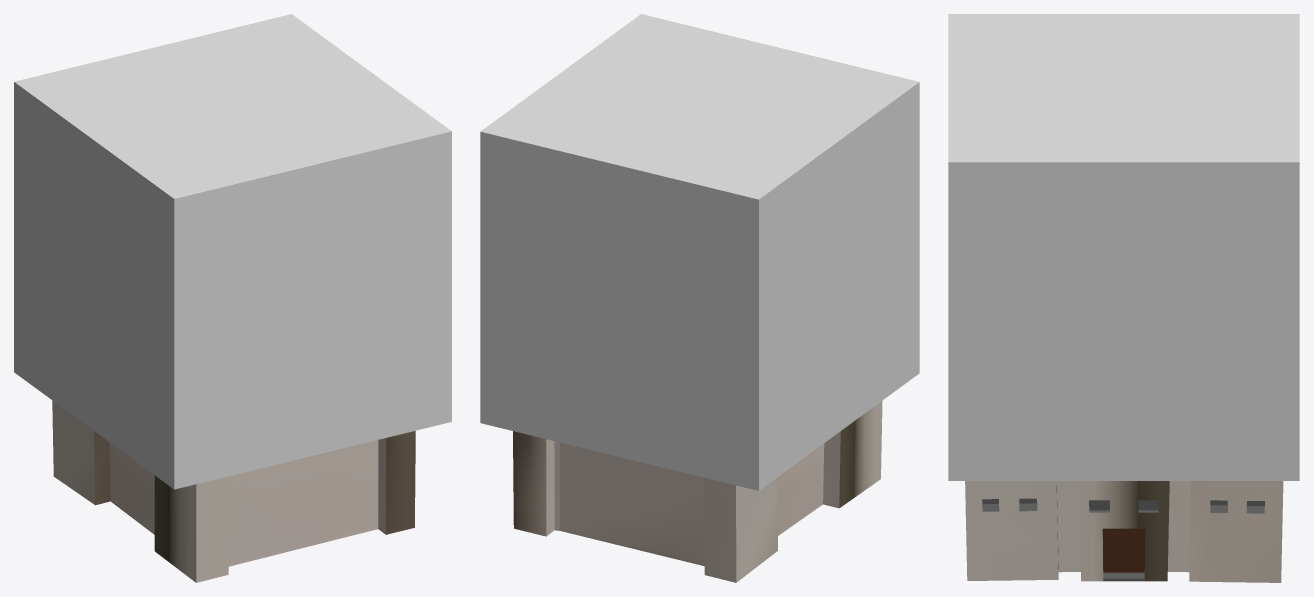
The model's file is 6castle.fbx.
The picture shows the model from 3 angles, left to right: view 1: azimuth 30°, elevation 25°; view 2: azimuth 150°, elevation 25°; view 3: azimuth 270°, elevation 25°; orthographic projection. The views are drawn at different scales.
Visible parts, largest first — view 1: Cube.003, Cube; view 2: Cube.003, Cube; view 3: Cube.003, Cube.
Part boxes in pixels (x1,y1,x2,y2): Cube.003: (14,14,451,489); Cube: (52,400,415,582); Cube.003: (480,14,919,490); Cube: (513,400,882,582); Cube.003: (948,14,1299,480); Cube: (965,481,1283,582).
Size of the model in its own units: 1708 by 2336 by 1708.
